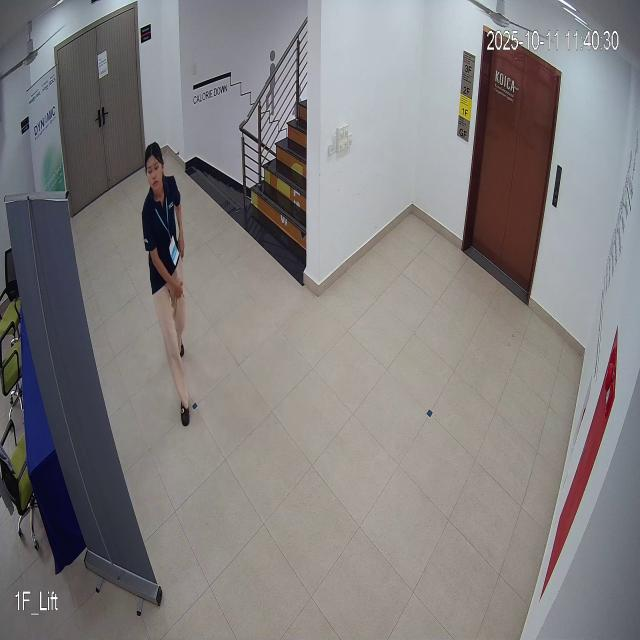face: (139, 138, 168, 200)
